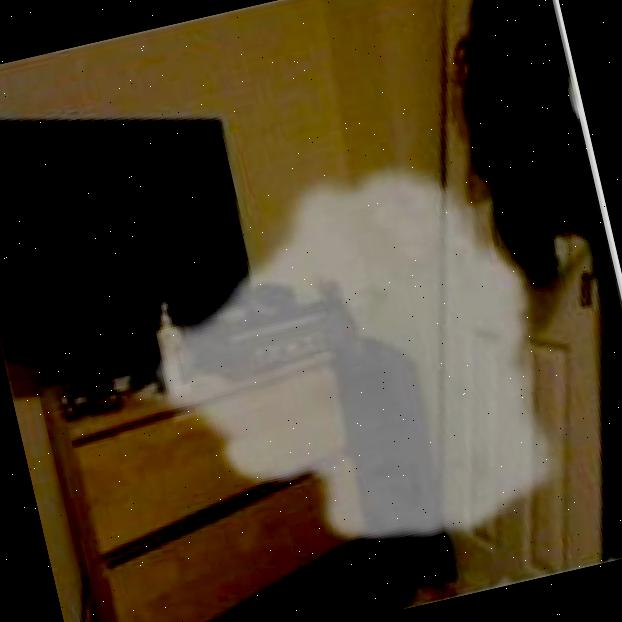smoke: (105, 127, 584, 602)
